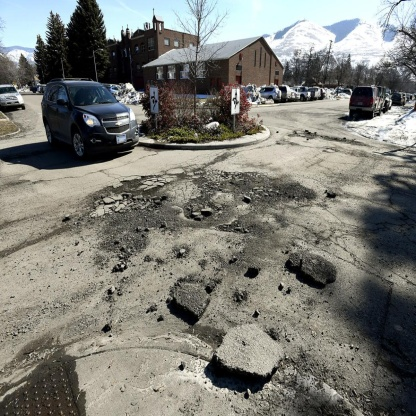pothole: (73, 161, 320, 276)
